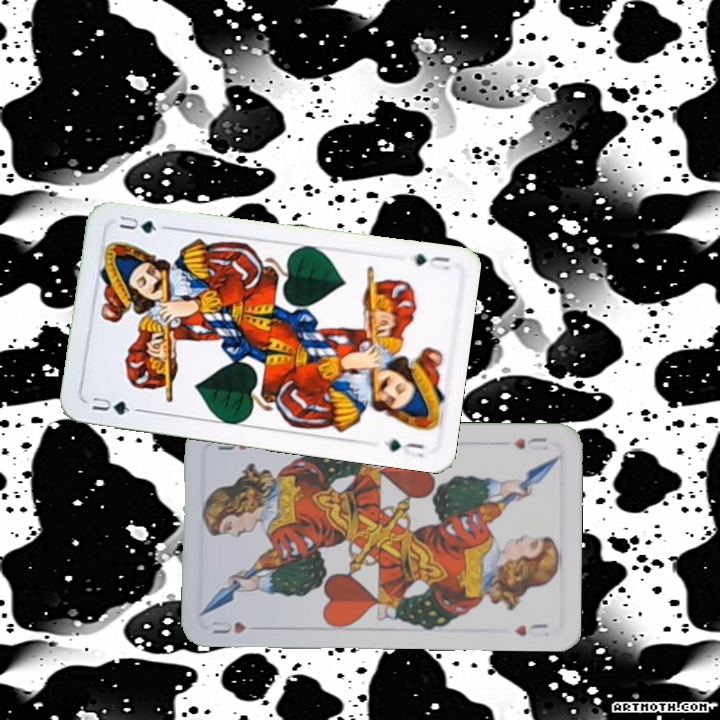GU: (87, 392, 143, 418), (410, 249, 454, 273)
HU: (508, 433, 549, 452), (208, 617, 249, 636)
